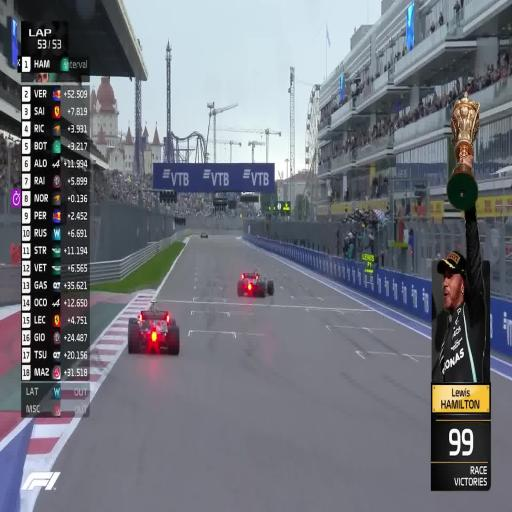f1_car: (128, 301, 179, 354), (237, 271, 274, 296), (201, 232, 208, 238)
